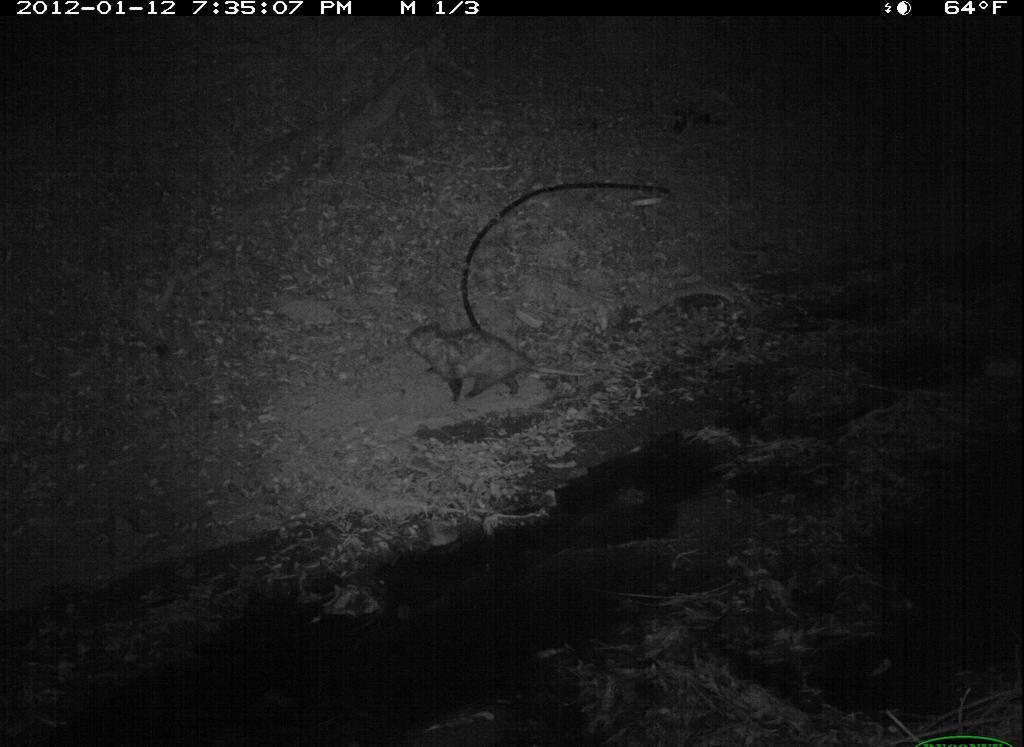opossum: (391, 313, 610, 415)
